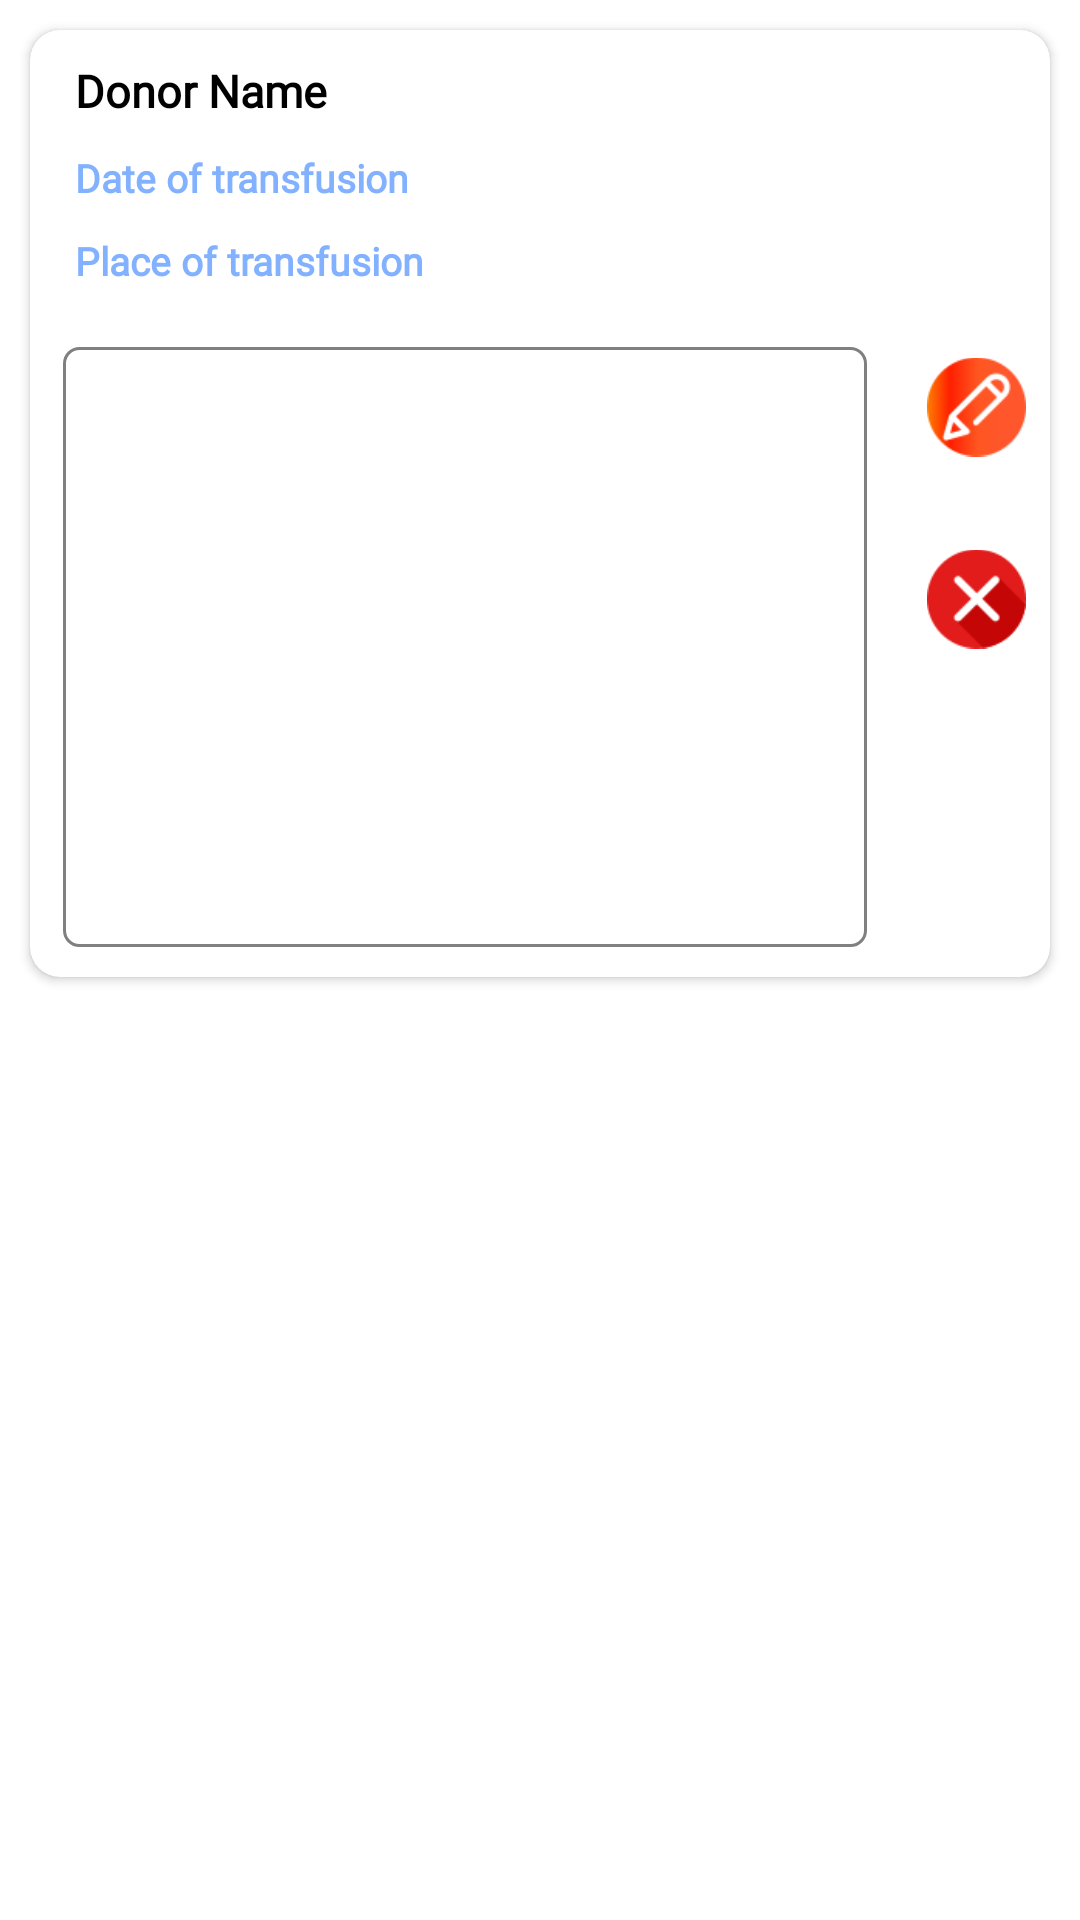

Locate icon controls on the screen. Image size 1080w x 1920h, boxes as (x1, y1, x2, y2).
delete: (927, 550, 1026, 649)
edit: (927, 358, 1026, 457)
